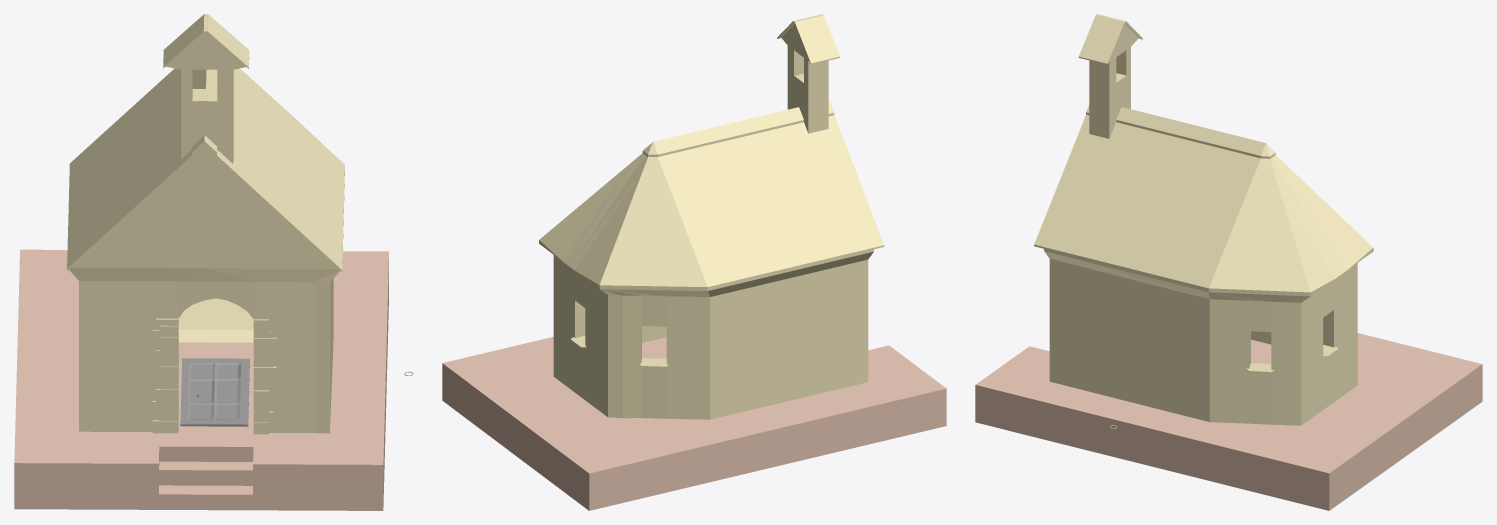
The model's file is chapel.dae.
3 views of the same model, side by side, from view 1: azimuth 30°, elevation 25°; view 2: azimuth 150°, elevation 25°; view 3: azimuth 270°, elevation 25° (orthographic). The views are drawn at different scales.
Visible parts, largest first — view 1: Plane_001, Cube_001, Cube; view 2: Plane_001, Cube_001; view 3: Plane_001, Cube_001.
Boxes of the visible parts, x1,y1,x2,y2 form: Plane_001: (67,14,344,434); Cube_001: (14,249,388,510); Cube: (180,358,249,426); Plane_001: (539,14,884,419); Cube_001: (442,336,946,510); Plane_001: (1034,14,1373,425); Cube_001: (975,333,1482,510).
Size of the model in its own units: 4.49 by 3.88 by 4.86.
